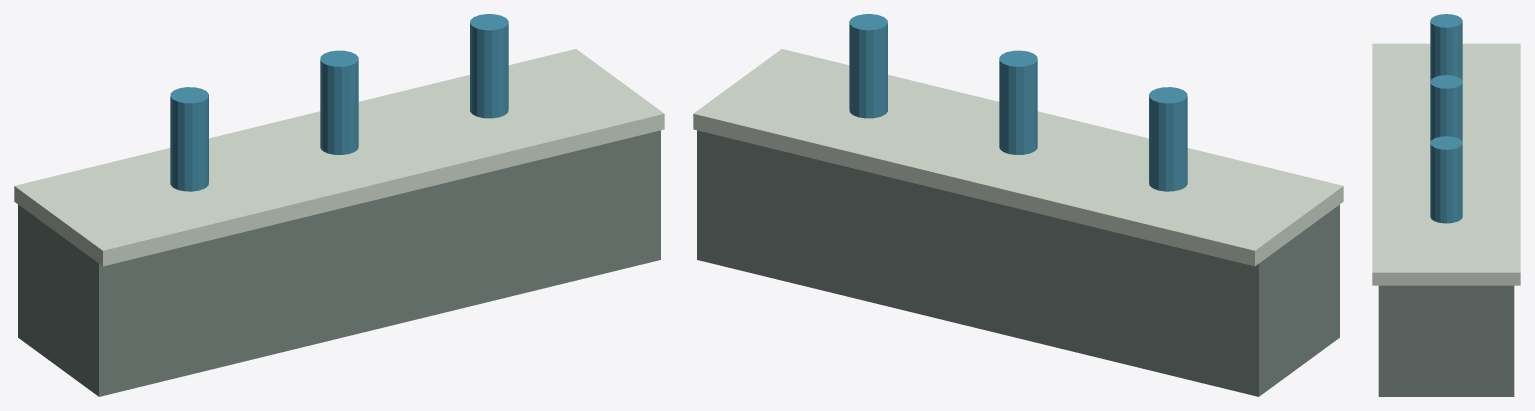
The model's file is laboratory_bench_concept.obj.
3 views of the same model, side by side, from view 1: azimuth 30°, elevation 25°; view 2: azimuth 150°, elevation 25°; view 3: azimuth 270°, elevation 25° (orthographic). The views are drawn at different scales.
Parts seen in each view (by area): view 1: bench_cabinet, worktop, instrument_marker; view 2: bench_cabinet, worktop, instrument_marker; view 3: worktop, bench_cabinet, instrument_marker.
Part boxes in pixels (<box>): bench_cabinet: <box>18,130,660,396</box>; worktop: <box>14,49,664,266</box>; instrument_marker: <box>170,14,508,191</box>; bench_cabinet: <box>697,130,1339,396</box>; worktop: <box>693,49,1343,266</box>; instrument_marker: <box>849,14,1187,191</box>; worktop: <box>1372,43,1520,285</box>; bench_cabinet: <box>1378,285,1514,396</box>; instrument_marker: <box>1430,14,1462,223</box>.
Size of the model in its own units: 3 by 1.23 by 0.82.
